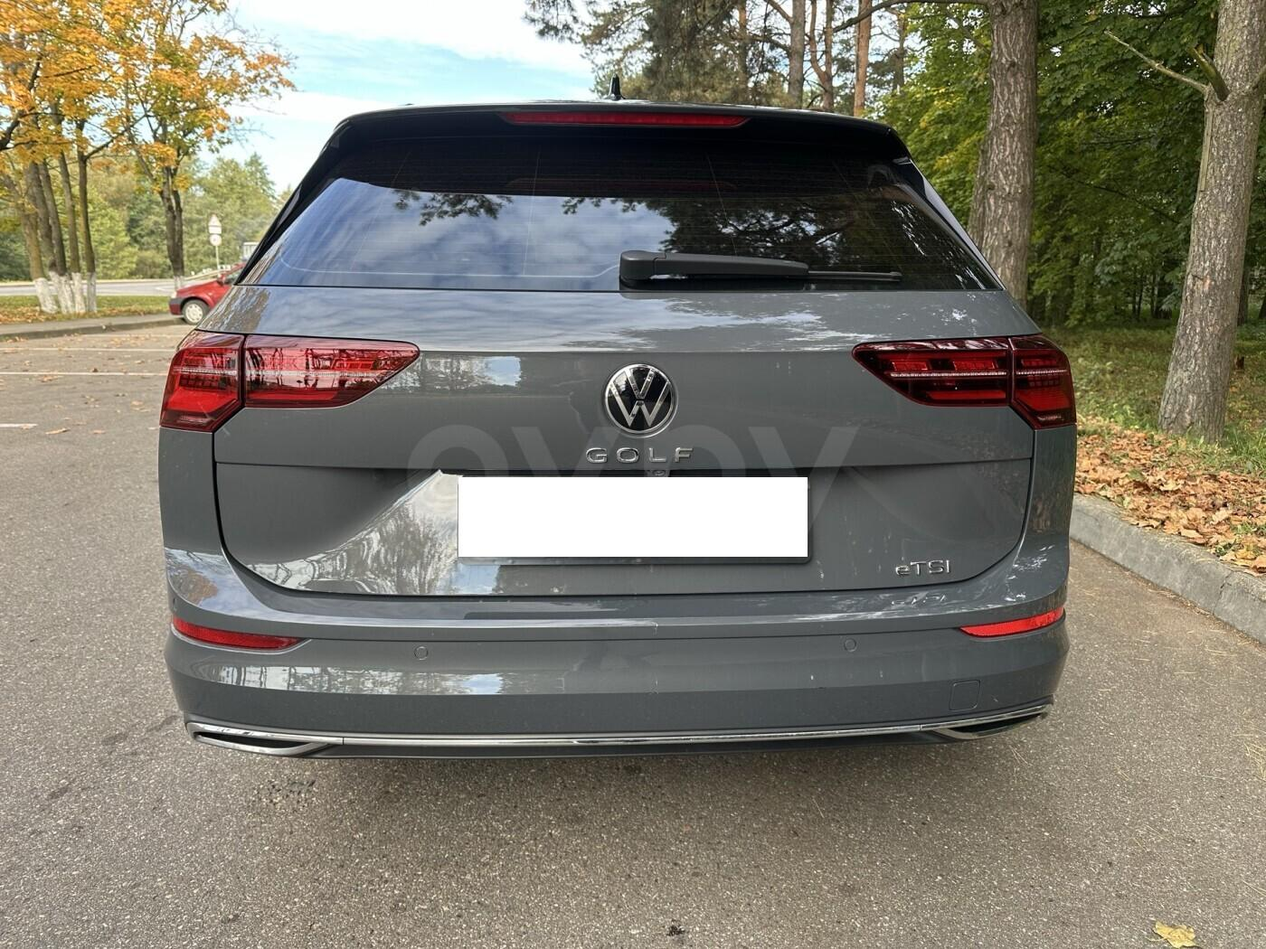Golf_2019: (141, 89, 1054, 753)
